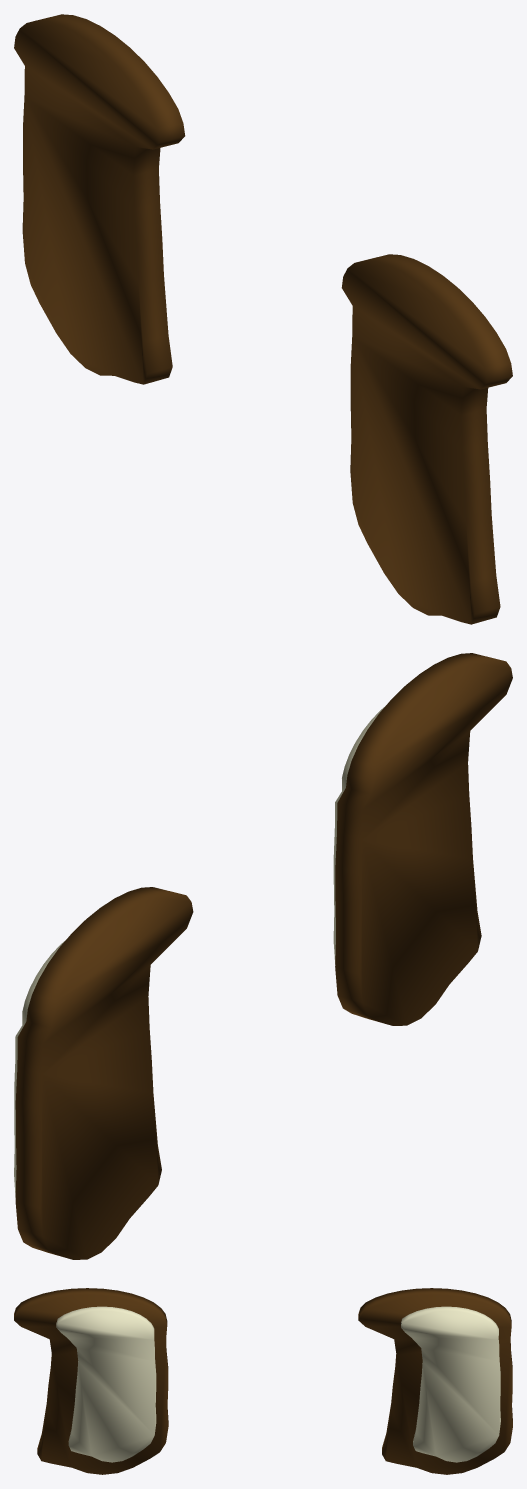
The model's file is MarsEyes.glb.
The picture shows the model from 3 angles, top to bottom: view 1: azimuth 30°, elevation 25°; view 2: azimuth 150°, elevation 25°; view 3: azimuth 270°, elevation 25°; orthographic projection. The views are drawn at different scales.
Visible parts, largest first — view 1: MarsEyes; view 2: MarsEyes; view 3: MarsEyes.
Boxes of the visible parts, box(x1,y1,x2,y2) form: MarsEyes: box(14, 14, 512, 624); MarsEyes: box(14, 653, 512, 1259); MarsEyes: box(14, 1288, 512, 1474).
Size of the model in its own units: 0.2051 by 1.37 by 3.47.
